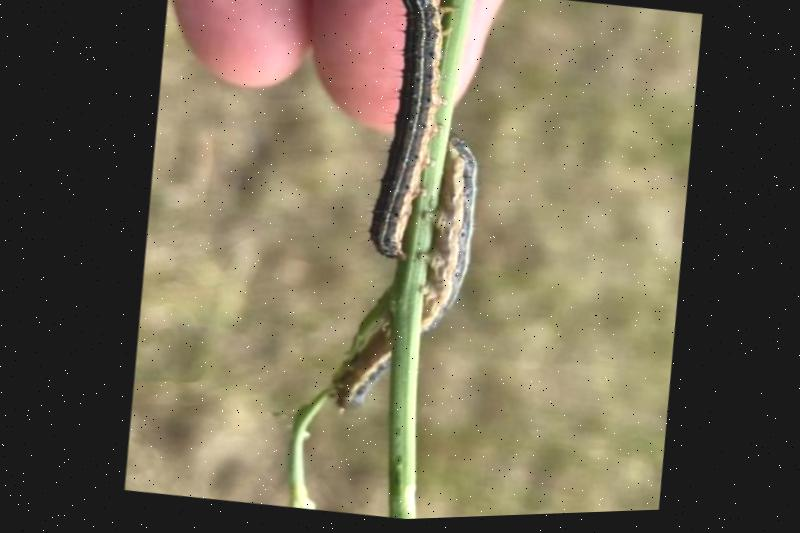fall-armyworm: (324, 138, 476, 413), (367, 1, 454, 260)
